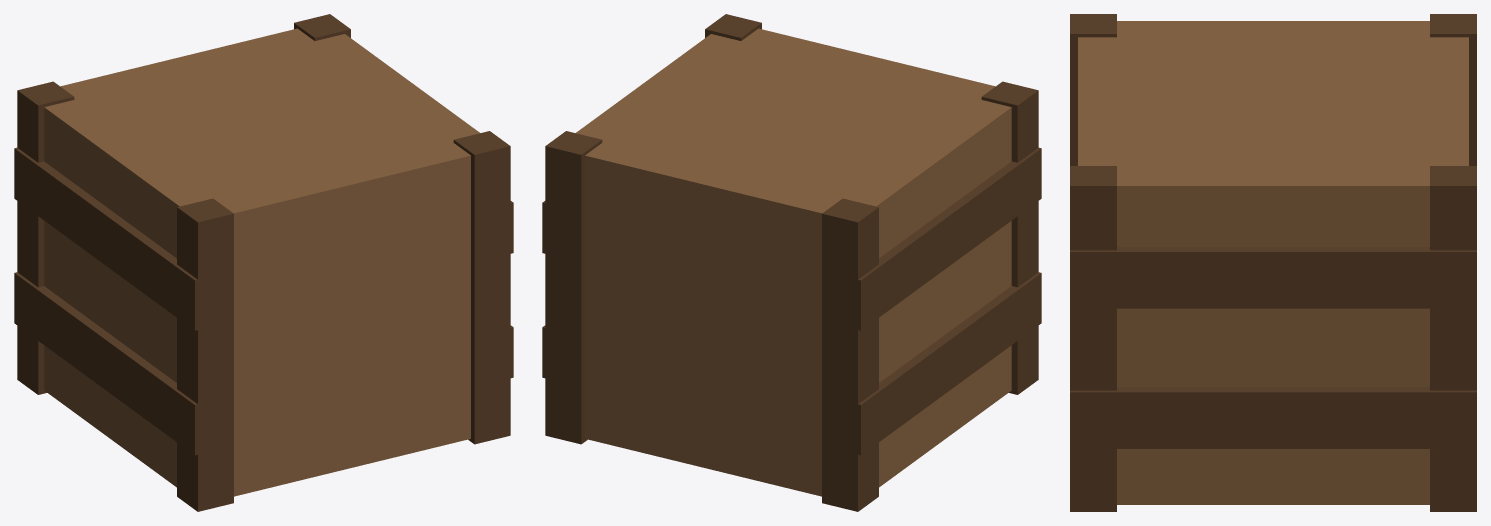
Rendered from item-box.glb.
3 renders of one model, left to right at view 1: azimuth 30°, elevation 25°; view 2: azimuth 150°, elevation 25°; view 3: azimuth 270°, elevation 25°, orthographic. The views are drawn at different scales.
Visible parts, largest first — view 1: 00_#8a6440_r110, 01_#5a3e26_r110; view 2: 00_#8a6440_r110, 01_#5a3e26_r110; view 3: 00_#8a6440_r110, 01_#5a3e26_r110.
Part boxes in pixels (x1,y1,x2,y2): 00_#8a6440_r110: (44, 28, 480, 496); 01_#5a3e26_r110: (14, 14, 513, 511); 00_#8a6440_r110: (575, 28, 1011, 496); 01_#5a3e26_r110: (542, 14, 1041, 511); 00_#8a6440_r110: (1078, 21, 1468, 504); 01_#5a3e26_r110: (1070, 14, 1476, 511).
Bounding box in the file's own units: 0.53 × 0.46 × 0.52.
